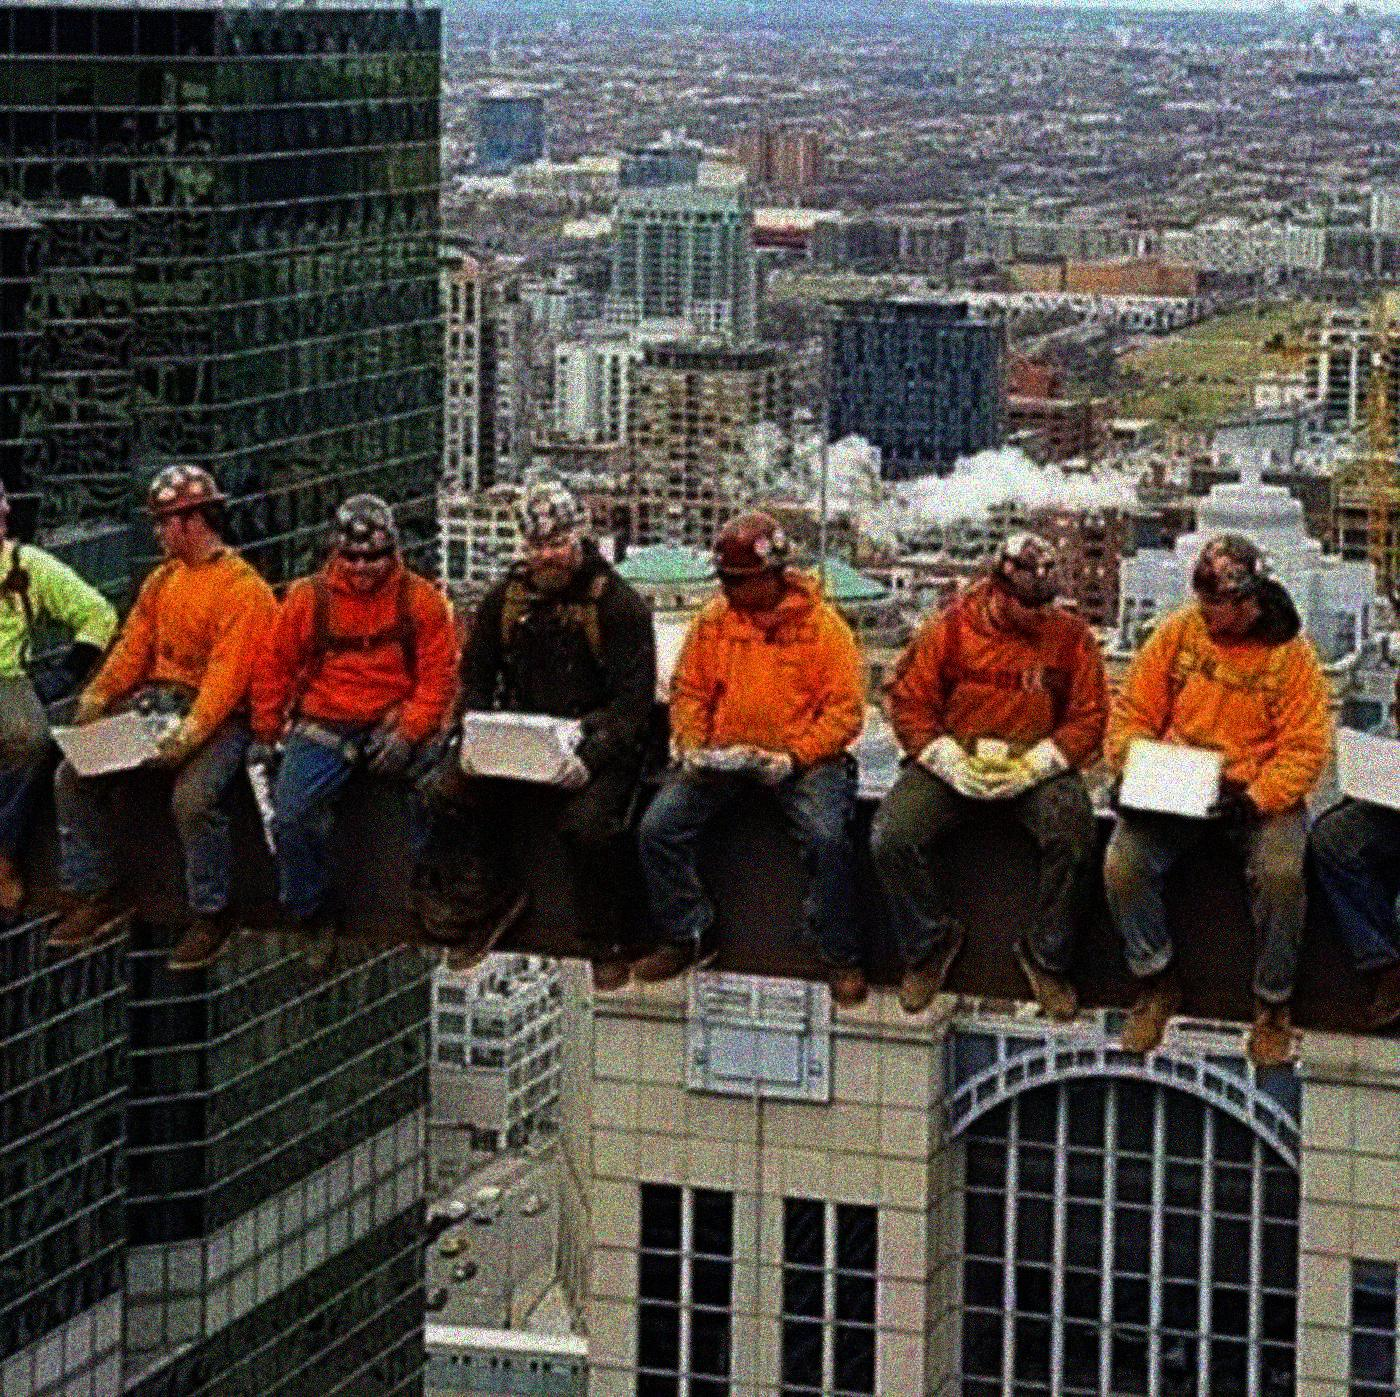helmet: (1186, 530, 1276, 635), (511, 481, 593, 595), (710, 504, 793, 612), (147, 461, 232, 559), (985, 533, 1069, 629), (328, 494, 406, 595)
